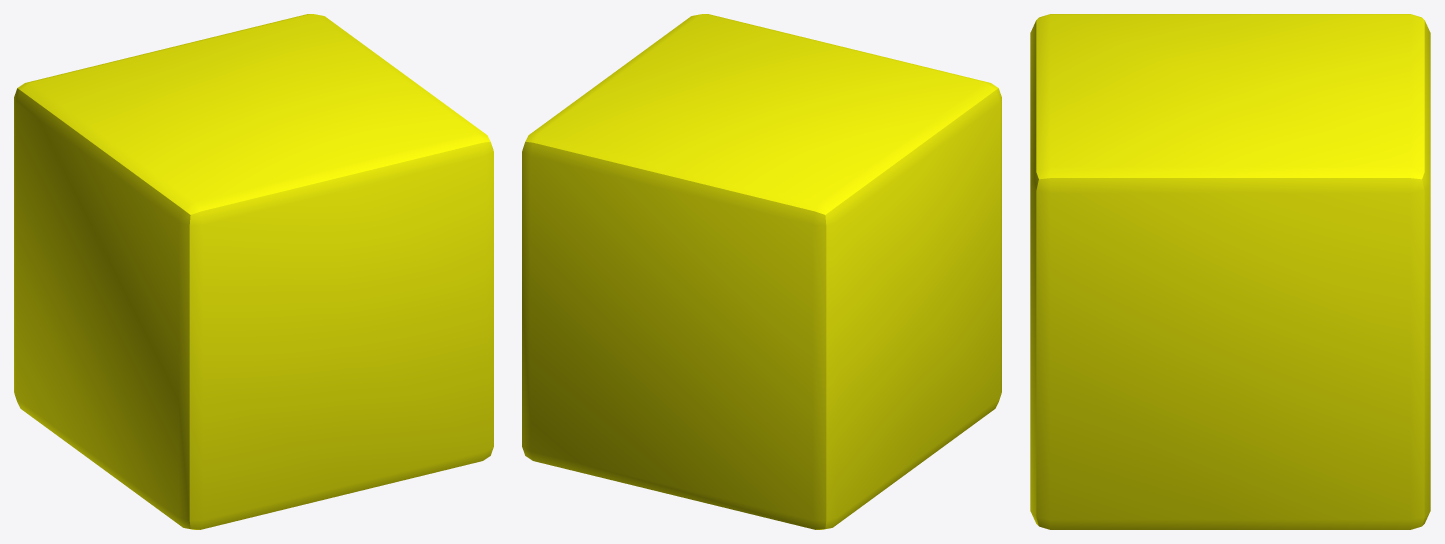
Rendered from kaykit-prototype.glb.
3 views of the same model, side by side, from view 1: azimuth 30°, elevation 25°; view 2: azimuth 150°, elevation 25°; view 3: azimuth 270°, elevation 25° (orthographic). The views are drawn at different scales.
Visible parts, largest first — view 1: prototype; view 2: prototype; view 3: prototype.
Boxes of the visible parts, x1=… form: prototype: x1=14, y1=14, x2=493, y2=529; prototype: x1=522, y1=14, x2=1001, y2=529; prototype: x1=1030, y1=14, x2=1430, y2=529.
Bounding box in the file's own units: 2 × 2 × 2.
